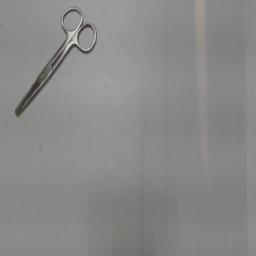Dressing Scissors: (9, 2, 101, 122)
